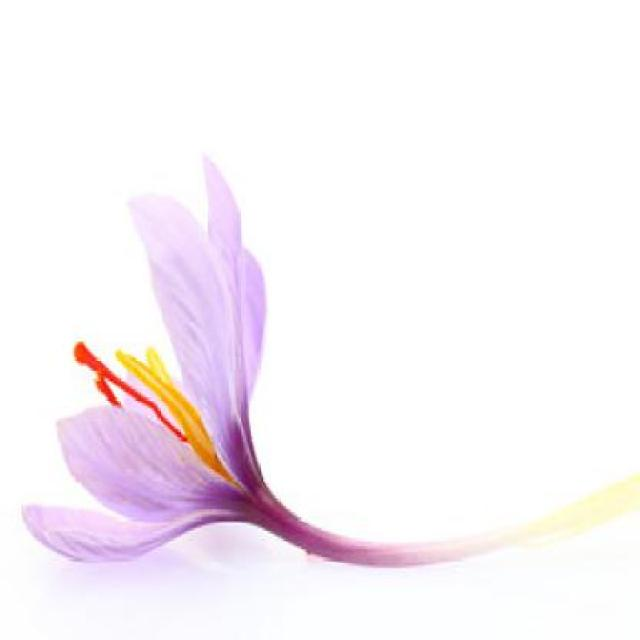Flower: (40, 158, 342, 598)
stigma: (66, 334, 190, 451)
